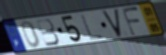0: (21, 20, 42, 49)
5: (60, 14, 82, 43)
B: (35, 18, 61, 48)
F: (120, 6, 143, 38)
L: (79, 13, 105, 42)
V: (101, 8, 124, 39)
